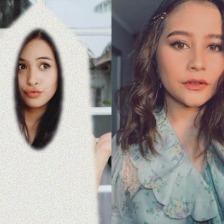Mukena: (0, 7, 99, 224)
